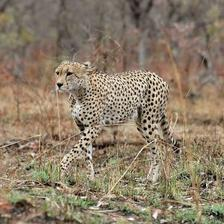Cheetah: (54, 58, 183, 182)
